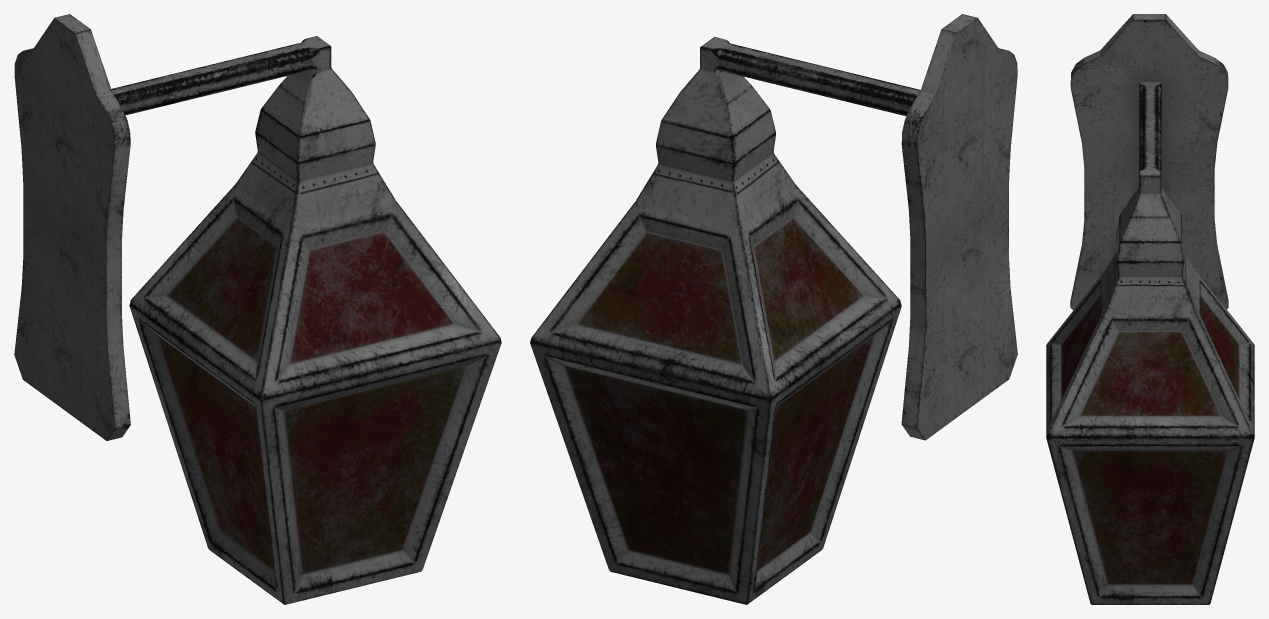
The picture shows the model from 3 angles, left to right: view 1: azimuth 30°, elevation 25°; view 2: azimuth 150°, elevation 25°; view 3: azimuth 270°, elevation 25°; orthographic projection. The views are drawn at different scales.
Visible parts, largest first — view 1: laltern; view 2: laltern; view 3: laltern.
Boxes of the visible parts, <box> form: laltern: <box>14,14,501,604</box>; laltern: <box>530,14,1017,604</box>; laltern: <box>1046,14,1254,604</box>.
Size of the model in its own units: 12.84 by 19.7 by 7.94.
1 material, 1 textured.
